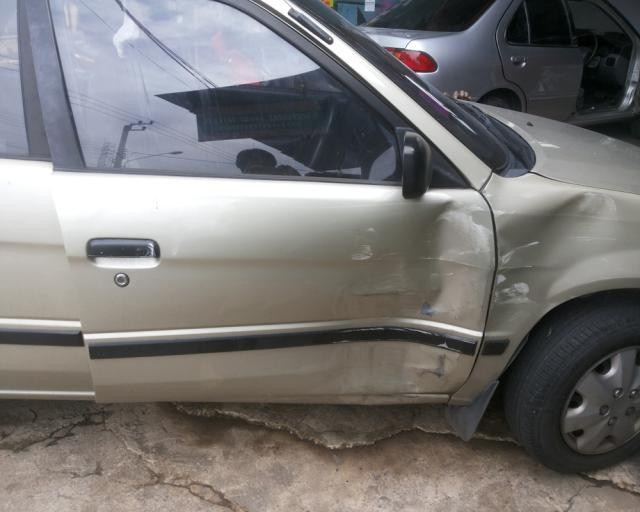dent: (338, 202, 489, 404), (484, 193, 616, 335)
scratch: (351, 223, 384, 263)
